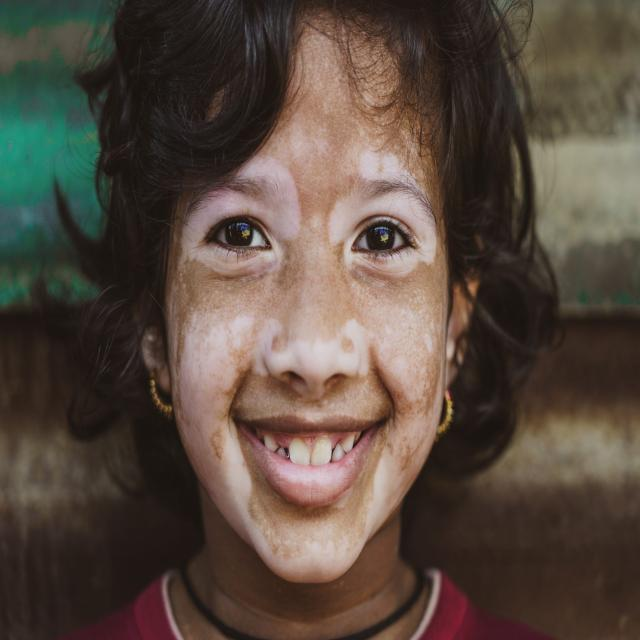vitiligo: (172, 320, 451, 556), (187, 162, 447, 302)
